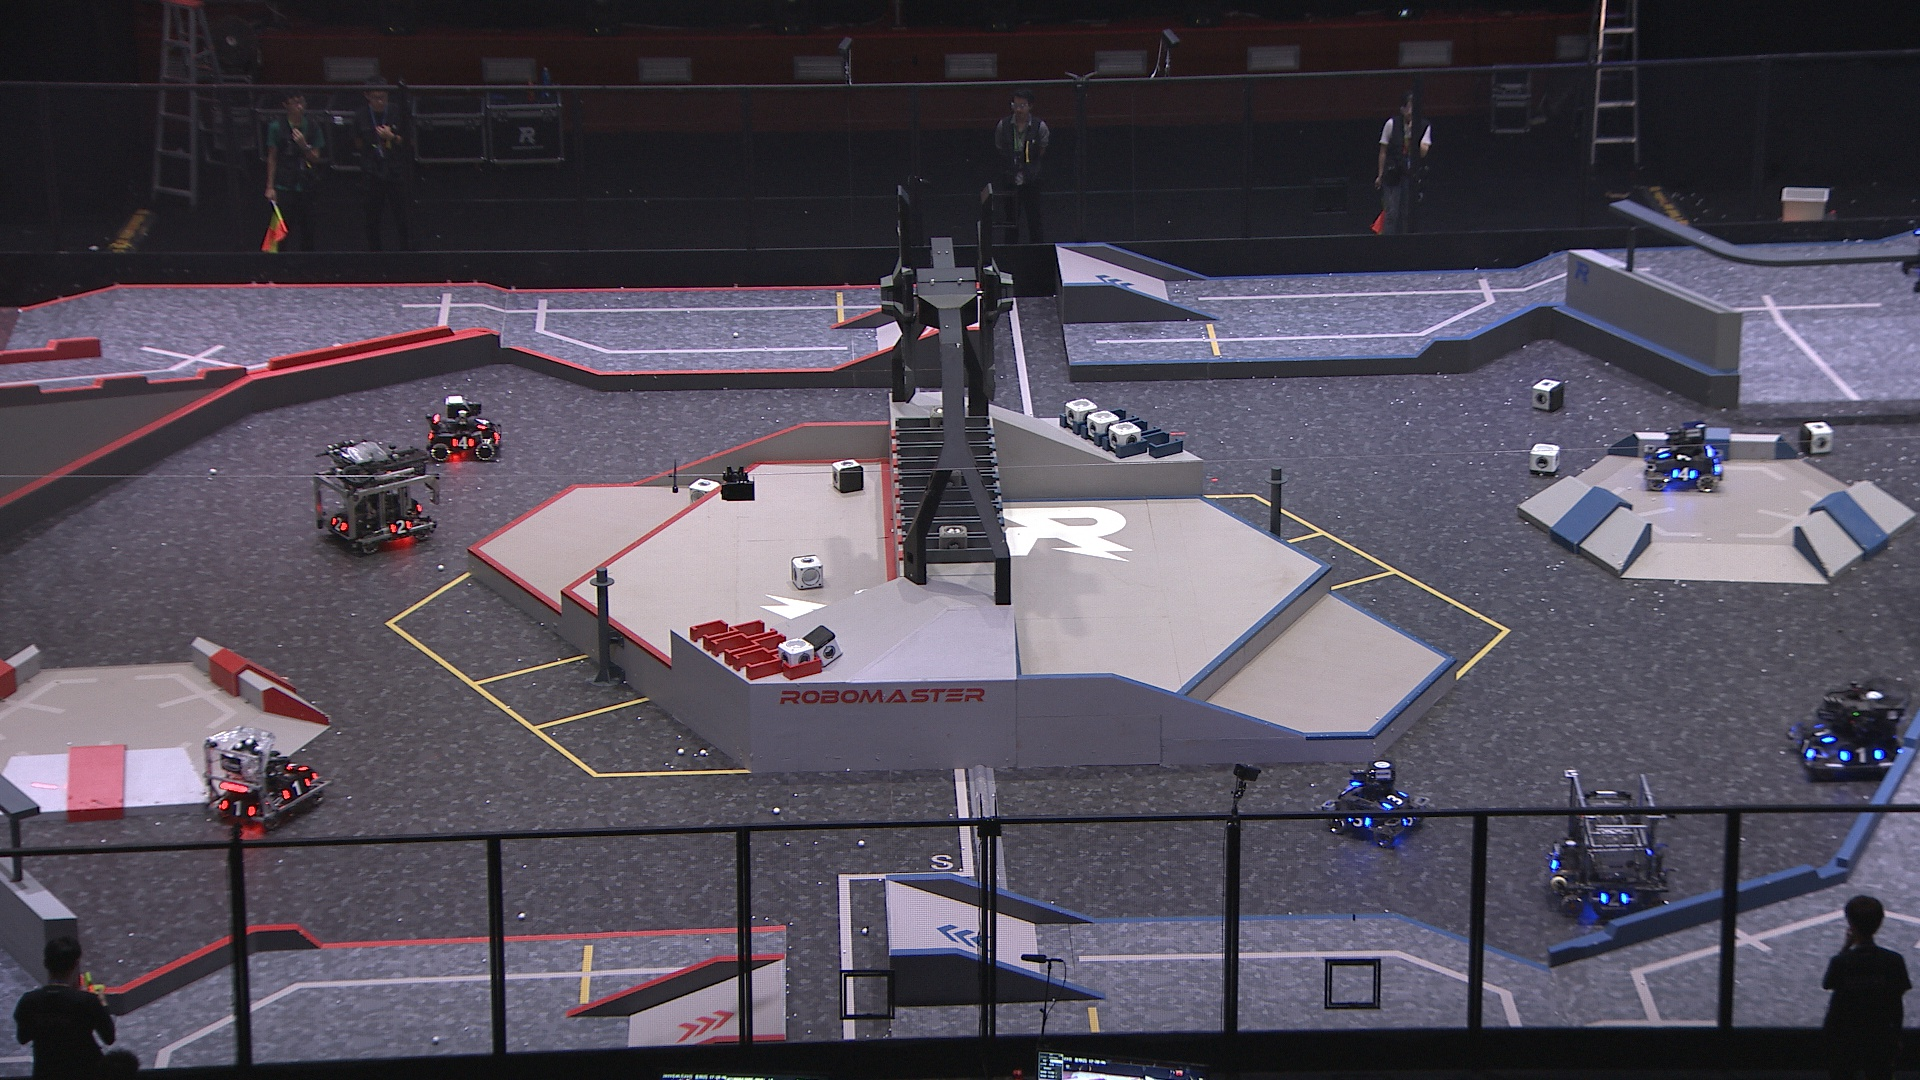armor: (1840, 746, 1884, 767), (219, 798, 258, 818), (280, 778, 310, 802), (1596, 891, 1631, 910), (1811, 723, 1836, 746), (1797, 736, 1820, 760), (1381, 793, 1406, 812), (389, 518, 415, 537), (1669, 467, 1698, 483), (448, 436, 476, 451), (328, 516, 351, 533), (1344, 816, 1373, 829), (281, 761, 309, 774), (1399, 815, 1416, 828), (1654, 444, 1671, 458), (475, 417, 493, 429)
car: (1545, 769, 1669, 916), (313, 440, 440, 553), (204, 727, 328, 832), (1789, 683, 1907, 785), (1317, 761, 1423, 847), (1642, 418, 1726, 493), (427, 394, 502, 462)
watcher: (1899, 225, 1920, 295)
